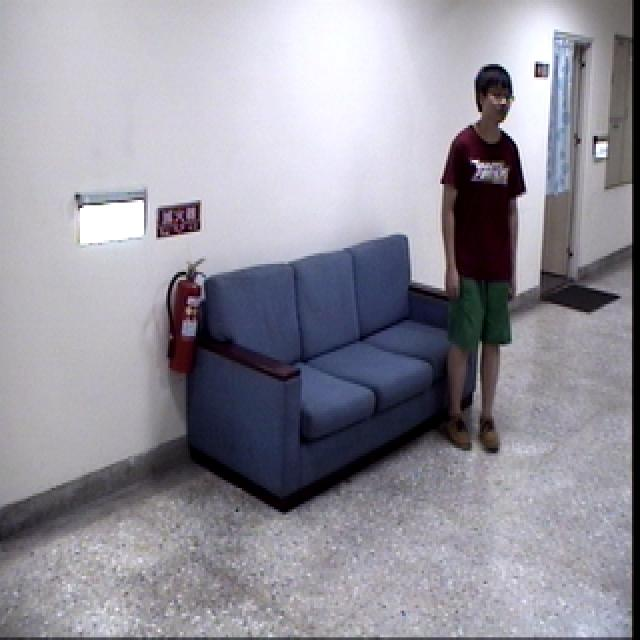stand: (425, 54, 531, 460)
